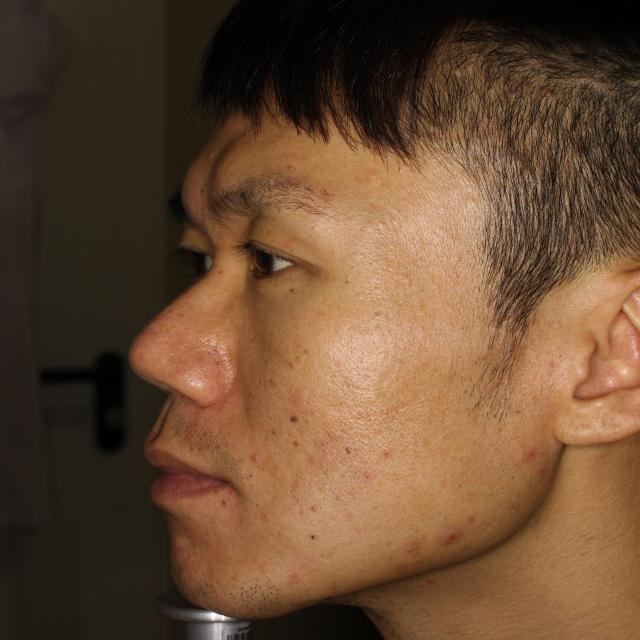comedone: (396, 530, 429, 562), (442, 526, 476, 550), (516, 444, 541, 462)
